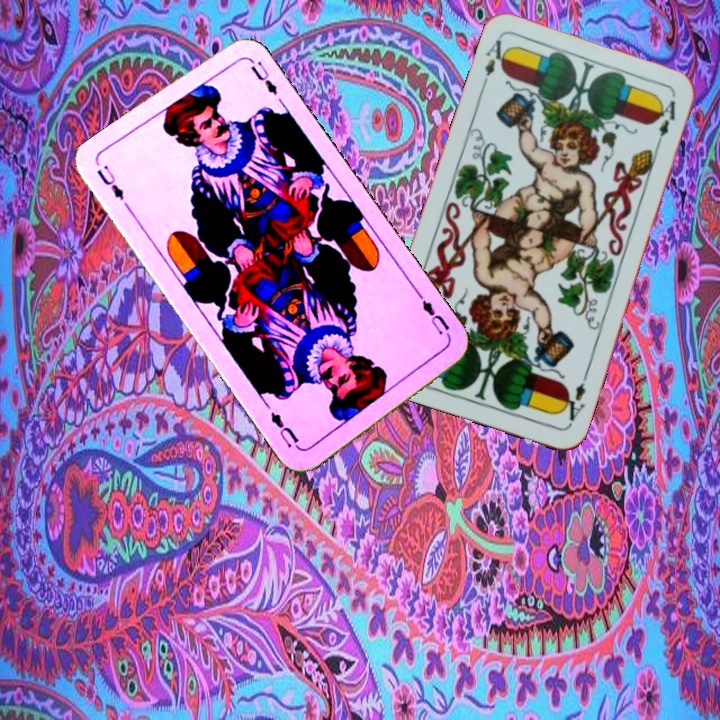EA: (557, 370, 590, 428), (480, 35, 512, 79)
EU: (414, 290, 452, 338), (92, 161, 127, 203)
